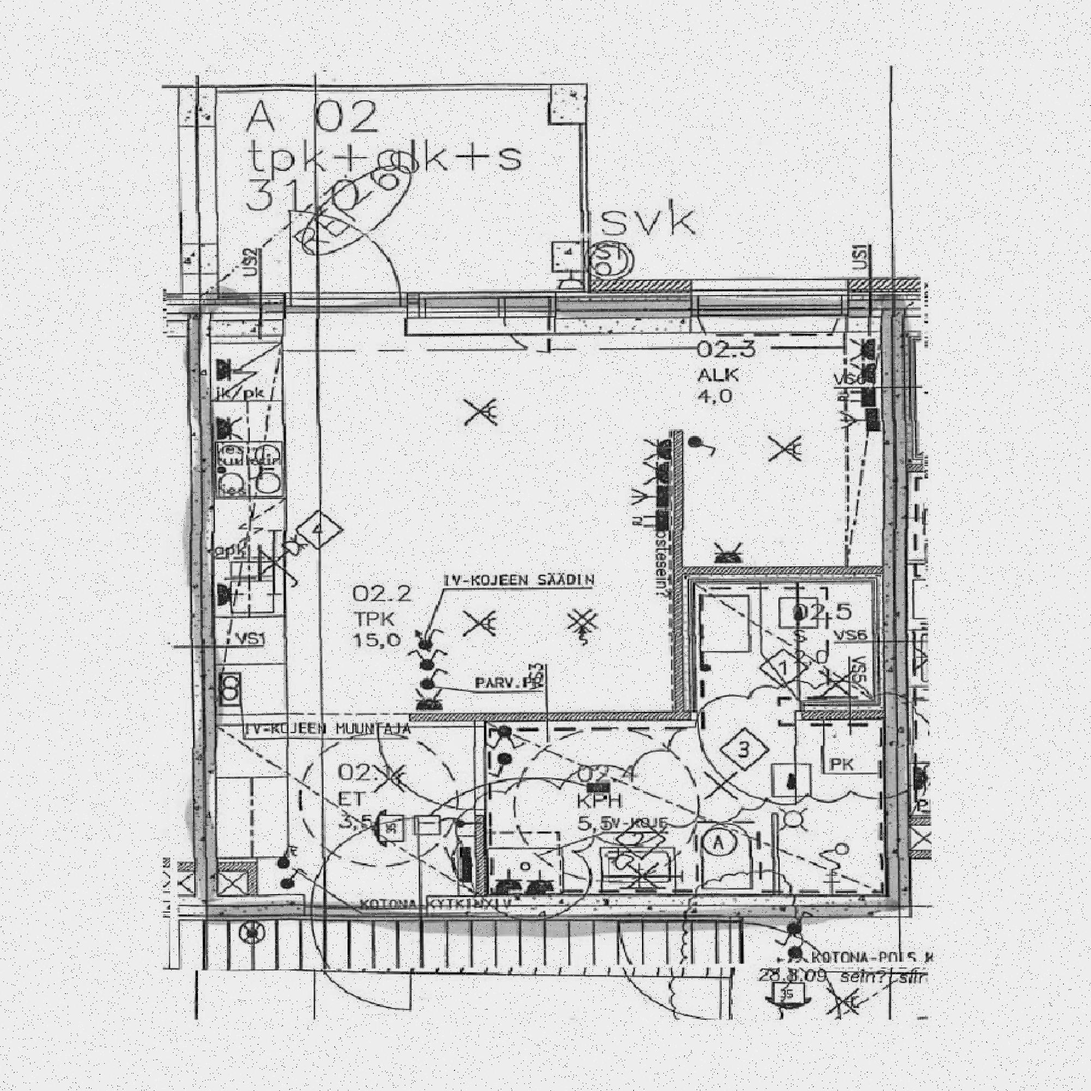wall: (587, 280, 907, 333), (192, 291, 587, 333), (882, 280, 908, 916), (192, 291, 218, 916), (192, 895, 907, 916), (192, 87, 218, 291), (675, 699, 907, 719), (675, 565, 907, 584), (675, 565, 701, 720), (411, 711, 701, 719), (192, 863, 258, 896), (476, 711, 486, 916), (675, 430, 683, 584), (248, 863, 257, 916)
